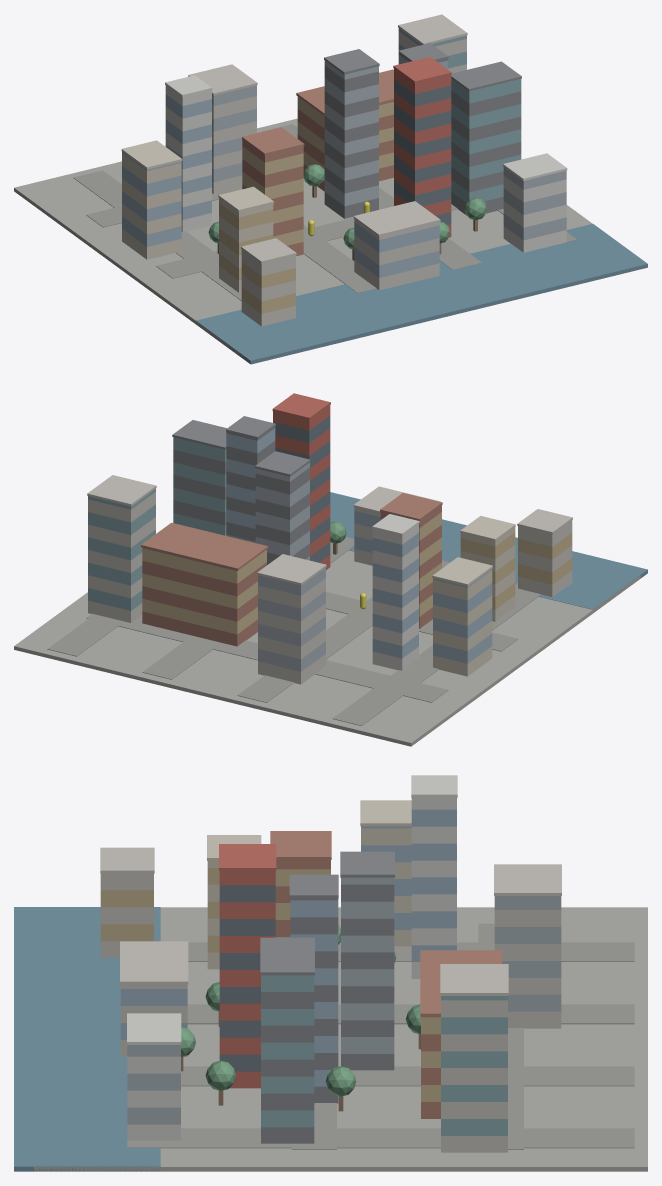
File: walkthrough_detailed.glb
3 views of the same model, one above another, from view 1: azimuth 30°, elevation 25°; view 2: azimuth 150°, elevation 25°; view 3: azimuth 270°, elevation 25° (orthographic). The views are drawn at different scales.
Visible parts, largest first — view 1: water, ground, scenery_b1, scenery_b5, building_3, scenery_b7, scenery_b3, building_0, scenery_b8, scenery_b4, scenery_b0, scenery_b9 (+9 smaller); view 2: ground, building_2, scenery_b6, scenery_b0, building_0, scenery_b7, scenery_b1, building_3, scenery_b5, water, scenery_b10, scenery_b9 (+9 smaller); view 3: ground, water, scenery_b6, scenery_b5, building_3, scenery_b1, scenery_b0, building_0, scenery_b10, scenery_b8, scenery_road_v3, scenery_b9 (+12 smaller).
Boxes of the visible parts, box(x1,y1,x2,y2) form: water: box(196, 224, 647, 364); ground: box(14, 118, 592, 358); scenery_b1: box(451, 61, 521, 215); scenery_b5: box(324, 49, 379, 218); building_3: box(393, 57, 451, 237); scenery_b7: box(121, 140, 182, 259); scenery_b3: box(353, 201, 440, 290); building_0: box(165, 75, 212, 231); scenery_b8: box(503, 153, 567, 252); scenery_b4: box(242, 127, 304, 256); scenery_b0: box(188, 64, 257, 194); scenery_b9: box(241, 238, 296, 326); ground: box(14, 550, 640, 746); building_2: box(141, 522, 268, 646); scenery_b6: box(87, 475, 156, 622); scenery_b0: box(257, 554, 326, 684); building_0: box(372, 514, 419, 670); scenery_b7: box(432, 557, 492, 676); scenery_b1: box(172, 420, 226, 535); building_3: box(272, 393, 330, 569); scenery_b5: box(255, 451, 310, 564); water: box(330, 492, 647, 609); scenery_b10: box(226, 416, 275, 542); scenery_b9: box(517, 509, 572, 597); ground: box(34, 907, 647, 1171); water: box(14, 907, 160, 1171); scenery_b6: box(440, 964, 508, 1152); scenery_b5: box(340, 851, 394, 1070); building_3: box(219, 844, 276, 1088); scenery_b1: box(260, 937, 314, 1143); scenery_b0: box(494, 864, 561, 1028); building_0: box(411, 775, 457, 978); scenery_b10: box(289, 874, 338, 1103); scenery_b8: box(127, 1013, 181, 1140); scenery_road_v3: box(127, 1128, 634, 1148); scenery_b9: box(100, 847, 154, 957).
Bounding box in the file's own units: 46 × 18.65 × 47.5.
